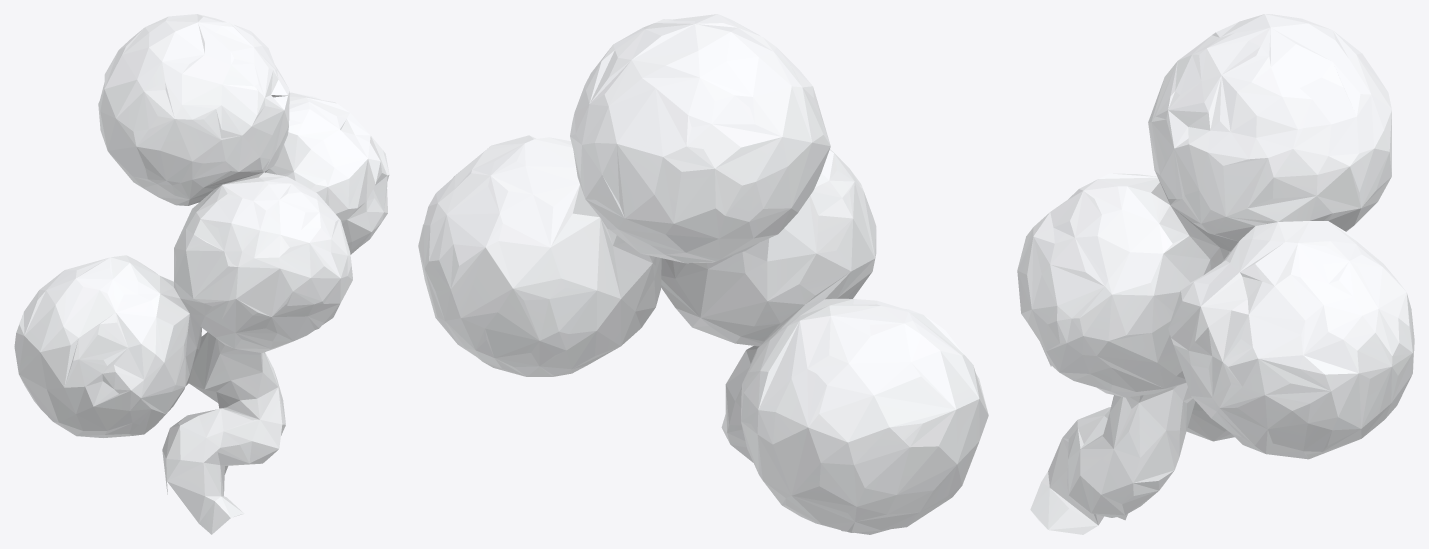
File: smoke_curl.glb
3 views of the same model, side by side, from view 1: azimuth 30°, elevation 25°; view 2: azimuth 150°, elevation 25°; view 3: azimuth 270°, elevation 25° (orthographic). The views are drawn at different scales.
Visible parts, largest first — view 1: smoke_curl; view 2: smoke_curl; view 3: smoke_curl.
Boxes of the visible parts, bbox=[...] form: smoke_curl: bbox=[14, 14, 389, 534]; smoke_curl: bbox=[418, 14, 988, 534]; smoke_curl: bbox=[1017, 14, 1414, 534].
Bounding box in the file's own units: 0.6823 × 0.7393 × 0.4934.
1 material, 1 textured.
